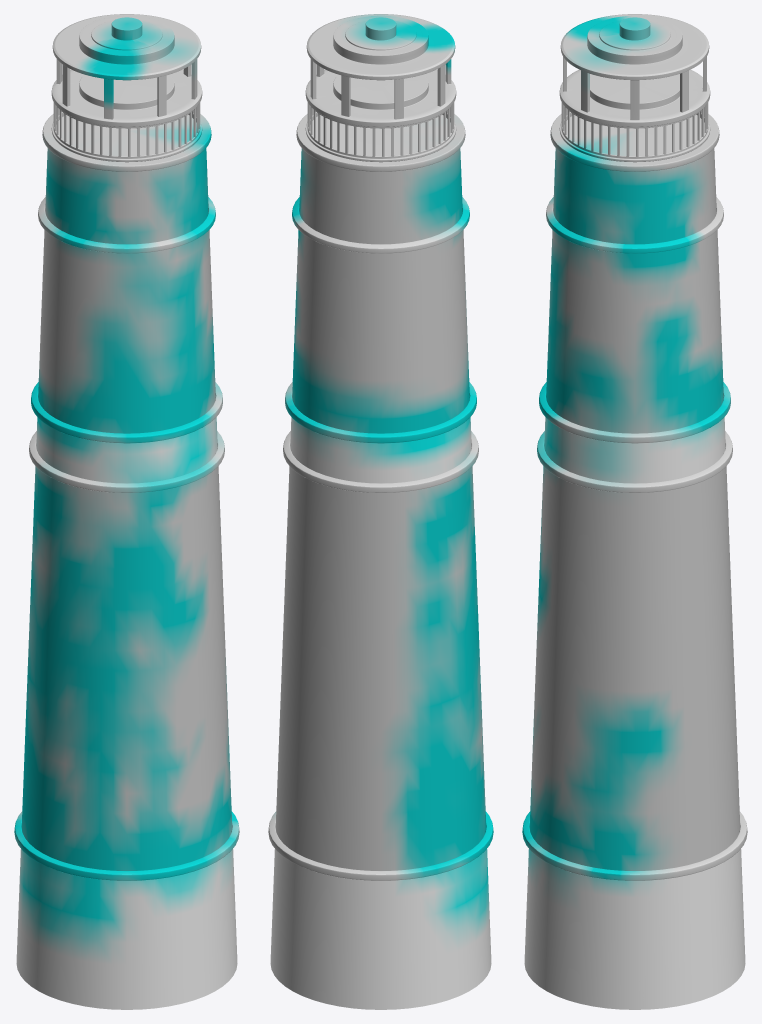
Rendered from SM_Lighthouse.fbx.
The picture shows the model from 3 angles, left to right: view 1: azimuth 30°, elevation 25°; view 2: azimuth 150°, elevation 25°; view 3: azimuth 270°, elevation 25°; orthographic projection.
Visible parts, largest first — view 1: StaticMeshActor_14570_LOD0; view 2: StaticMeshActor_14570_LOD0; view 3: StaticMeshActor_14570_LOD0.
Boxes of the visible parts, x1,y1,x2,y2 form: StaticMeshActor_14570_LOD0: (14,14,239,1009); StaticMeshActor_14570_LOD0: (268,14,493,1009); StaticMeshActor_14570_LOD0: (522,14,747,1009).
Size of what is drawn, in the model's own units: 1372 by 6315 by 1372.
